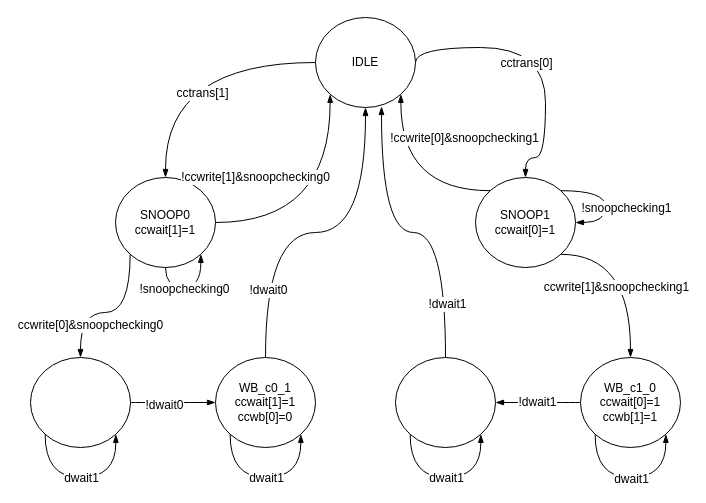
Image size: 706x503. Some labels were removed from this diagram. Here are the shapes that lost their labels. From the top down, the centre of each, then its label:
At [80,402]: "WB_c0_0 ccwait[1]=1 ccwb[0]=0".
At [445,402]: "WB_c1_1 ccwait[0]=1 ccwb[1]=1".
